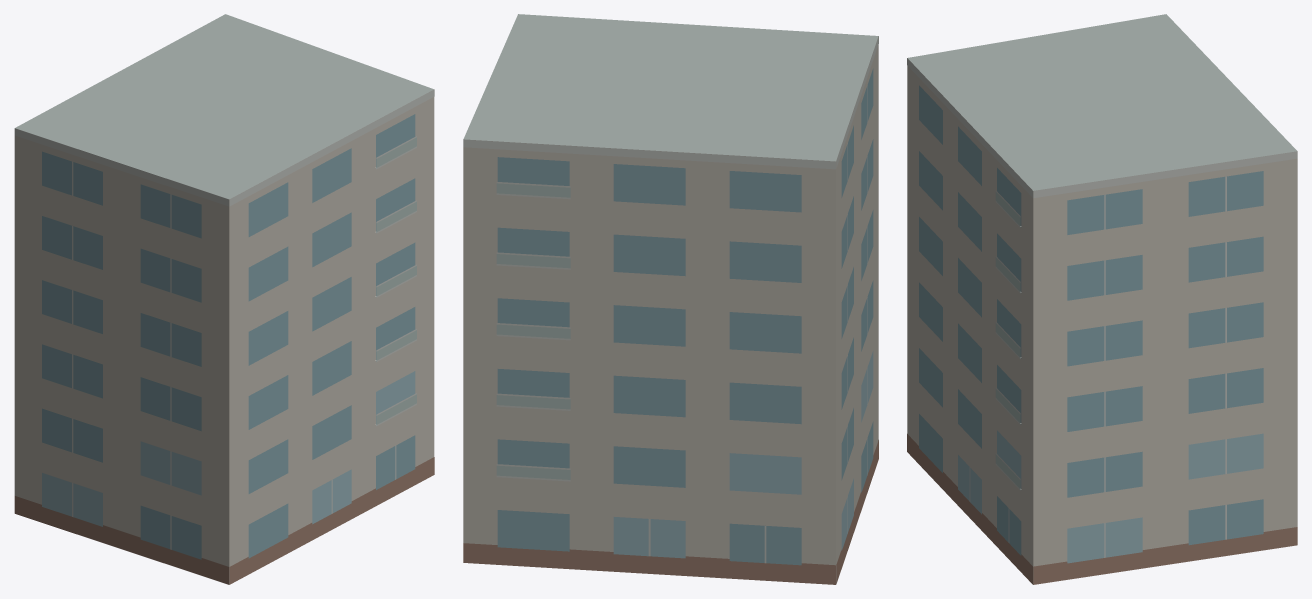
File: survey-upis-32931595.glb
3 renders of one model, left to right at view 1: azimuth 30°, elevation 25°; view 2: azimuth 150°, elevation 25°; view 3: azimuth 270°, elevation 25°, orthographic. The views are drawn at different scales.
Visible parts, largest first — view 1: survey-upis-32931595.tmp; view 2: survey-upis-32931595.tmp; view 3: survey-upis-32931595.tmp.
Part boxes in pixels (x1,y1,x2,y2): survey-upis-32931595.tmp: (14, 14, 434, 584); survey-upis-32931595.tmp: (463, 14, 878, 584); survey-upis-32931595.tmp: (907, 14, 1297, 584).
Size of the model in its own units: 12.53 by 13 by 11.68.
